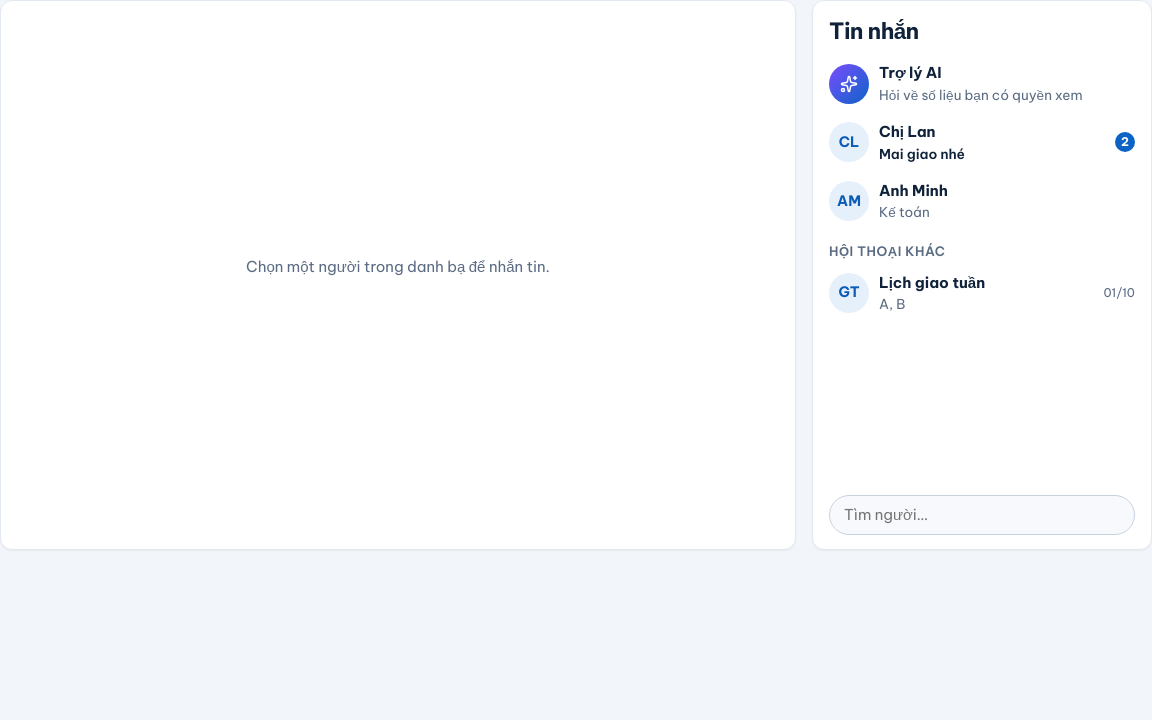
Scenario: lists the assistant first, then the contacts with unread counts, and searches by name
Expected: the links read "Trợ lý AIHỏi về số liệu bạn có quyền xem", "CLChị LanMai giao nhé2", "AMAnh MinhKế toán", in this order, [829,63,1083,104]; [821,113,1143,172]; [829,181,948,221]
Expected: the list named "Hội thoại khác" is shown, [813,264,1151,323]
Type "minh" into the search field with placeholder "Tìm người…" at (982, 515), box [829,494,1135,535]
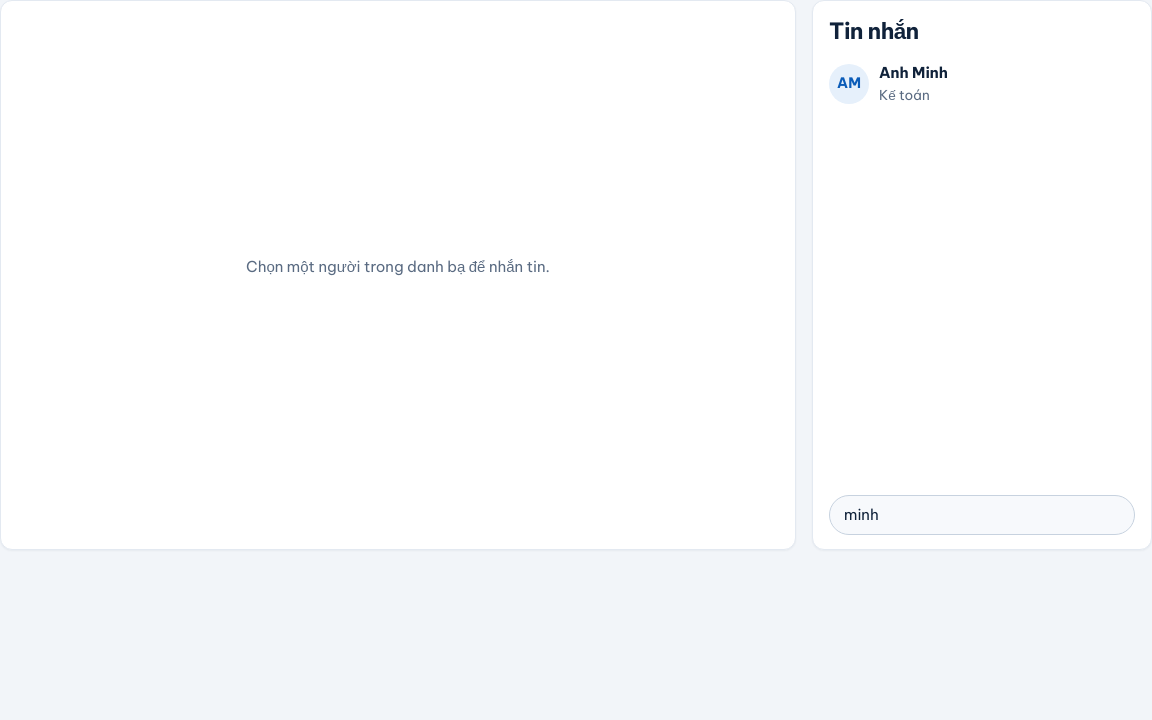
Result: the links read "AMAnh MinhKế toán", in this order at [829,63,948,104]
